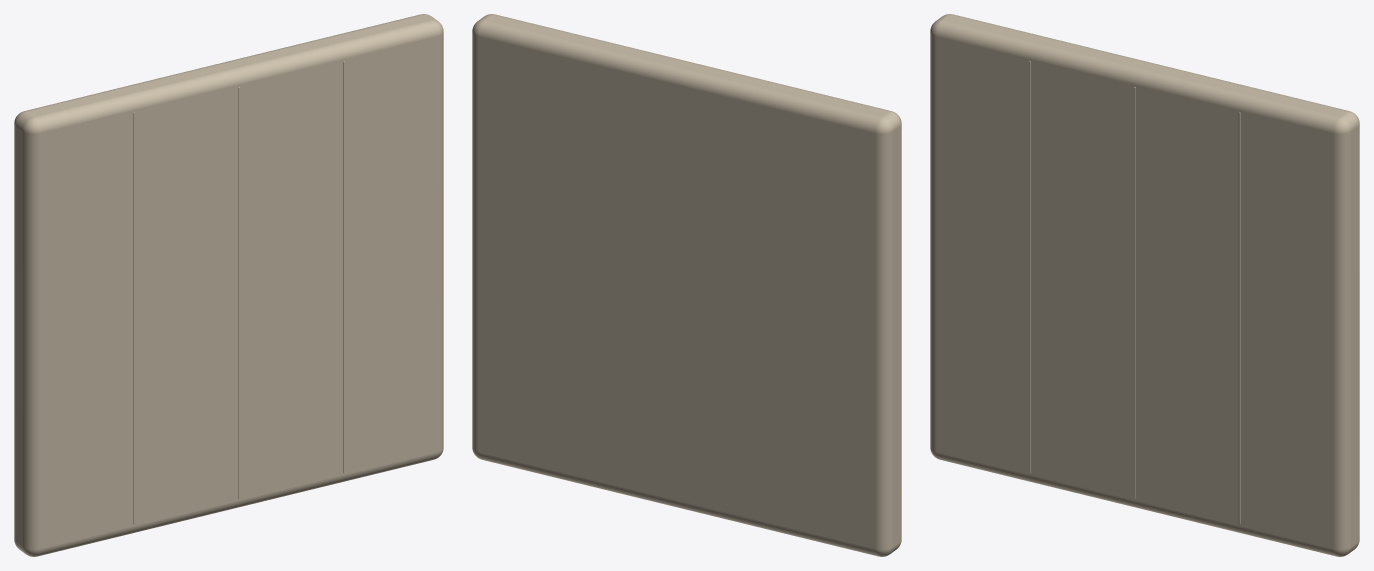
Rendered from acousticPanel-3.glb.
The picture shows the model from 3 angles, left to right: view 1: azimuth 30°, elevation 25°; view 2: azimuth 150°, elevation 25°; view 3: azimuth 330°, elevation 25°; orthographic projection.
Parts seen in each view (by area): view 1: acousticPanel:3:archviz; view 2: acousticPanel:3:archviz; view 3: acousticPanel:3:archviz.
Part boxes in pixels (left/top/right/bottom): acousticPanel:3:archviz: left=14, top=14, right=443, bottom=556; acousticPanel:3:archviz: left=472, top=14, right=901, bottom=556; acousticPanel:3:archviz: left=930, top=14, right=1359, bottom=556.
Size of the model in its own units: 0.8 by 0.8 by 0.067.
